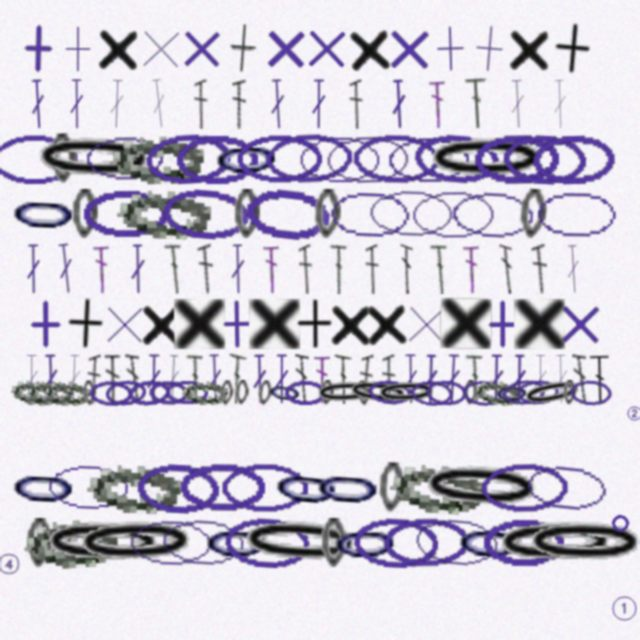chain: (418, 459, 545, 516), (237, 514, 364, 571), (31, 132, 157, 186), (73, 516, 199, 569), (40, 517, 166, 569), (493, 517, 618, 569), (424, 134, 549, 184), (523, 517, 640, 569), (389, 460, 485, 516), (23, 515, 119, 571), (242, 184, 332, 243), (521, 459, 610, 517), (160, 185, 250, 242), (412, 514, 502, 571), (117, 187, 211, 240), (412, 131, 500, 187), (144, 131, 233, 186), (223, 515, 312, 570), (110, 133, 204, 185), (87, 462, 181, 514), (159, 515, 246, 570), (448, 187, 536, 241), (264, 132, 353, 185), (135, 461, 222, 515), (501, 132, 587, 186), (367, 187, 454, 240), (45, 461, 132, 514), (352, 516, 439, 569), (352, 133, 440, 185), (480, 462, 568, 514), (326, 187, 412, 240), (324, 133, 410, 185), (531, 133, 617, 185), (127, 517, 213, 569), (473, 133, 559, 184), (179, 462, 265, 513), (383, 517, 469, 568), (221, 463, 308, 513), (533, 188, 618, 239), (236, 134, 322, 184), (385, 134, 471, 184), (82, 189, 168, 239), (83, 133, 167, 184), (175, 134, 260, 184), (410, 189, 495, 239), (297, 134, 381, 184), (482, 518, 566, 568), (270, 460, 344, 516), (0, 134, 79, 184), (312, 461, 385, 515), (211, 132, 283, 185), (8, 187, 80, 240), (8, 461, 80, 514), (454, 516, 526, 569), (330, 517, 401, 569), (202, 517, 272, 568), (520, 375, 585, 411), (346, 377, 410, 408), (314, 379, 377, 406), (375, 379, 438, 406), (518, 188, 548, 240), (49, 133, 77, 184), (378, 462, 406, 513), (10, 378, 58, 407), (473, 378, 521, 407), (314, 189, 341, 239), (26, 518, 53, 568), (367, 378, 412, 407), (502, 378, 547, 407), (72, 189, 98, 239), (234, 189, 260, 239), (321, 518, 347, 568), (104, 378, 148, 407), (127, 378, 171, 407), (461, 379, 506, 407), (410, 379, 453, 407), (44, 380, 90, 406), (425, 379, 468, 406), (516, 379, 559, 406), (569, 379, 612, 406), (27, 380, 73, 405), (182, 380, 228, 405), (89, 380, 132, 406), (266, 378, 304, 407), (148, 380, 190, 406), (165, 380, 208, 405), (284, 380, 326, 405), (494, 380, 530, 406), (257, 380, 273, 406), (82, 380, 97, 406), (219, 380, 234, 406), (356, 380, 371, 406), (235, 380, 249, 405), (320, 380, 334, 405), (464, 380, 477, 405), (563, 380, 576, 405)
double: (465, 78, 489, 129), (148, 78, 170, 129), (55, 243, 77, 294), (589, 354, 611, 404), (163, 243, 184, 294), (226, 353, 247, 404), (429, 244, 449, 294), (268, 79, 287, 129), (508, 79, 527, 129), (328, 244, 347, 294), (443, 354, 462, 404), (197, 243, 215, 294), (531, 243, 549, 294), (29, 79, 47, 129), (108, 79, 126, 129), (390, 79, 408, 129), (551, 79, 569, 129), (129, 244, 147, 294), (229, 244, 247, 294), (564, 244, 582, 294), (42, 354, 60, 404), (65, 354, 83, 404), (104, 354, 122, 404), (164, 354, 182, 404), (185, 354, 203, 404), (206, 354, 224, 404), (334, 354, 352, 404), (465, 354, 483, 404), (487, 354, 505, 404), (552, 354, 570, 404), (68, 79, 85, 129), (310, 79, 327, 129), (429, 79, 446, 129), (25, 244, 42, 294), (93, 244, 110, 294), (263, 244, 280, 294), (463, 244, 480, 294), (23, 354, 40, 404), (125, 354, 142, 404), (145, 354, 162, 404), (251, 354, 268, 404), (273, 354, 290, 404), (402, 354, 419, 404), (422, 354, 439, 404), (532, 354, 549, 404), (572, 354, 589, 404), (298, 244, 314, 294), (499, 244, 515, 294), (314, 354, 330, 404), (358, 354, 374, 404), (511, 354, 527, 404), (349, 79, 364, 129), (365, 244, 380, 294), (194, 79, 208, 129), (232, 79, 246, 129), (87, 354, 101, 404), (295, 354, 309, 404), (382, 354, 396, 404), (400, 244, 413, 294)
noise: (610, 594, 638, 622), (0, 551, 22, 577), (610, 513, 631, 534), (625, 404, 640, 422)
single: (463, 22, 516, 75), (400, 298, 452, 350), (440, 298, 492, 349), (13, 23, 64, 74), (135, 23, 186, 74), (176, 23, 227, 74), (260, 23, 311, 74), (301, 23, 352, 74), (425, 23, 476, 74), (174, 299, 225, 349), (249, 299, 300, 349), (514, 299, 565, 349), (53, 24, 103, 74), (384, 24, 434, 74), (20, 299, 70, 349), (99, 299, 149, 349), (212, 299, 262, 349), (477, 299, 527, 349), (555, 299, 605, 349), (346, 23, 394, 75), (363, 298, 411, 349), (95, 23, 142, 74), (506, 24, 553, 74), (139, 299, 185, 349), (328, 299, 374, 349), (551, 22, 593, 75), (65, 298, 105, 349), (295, 299, 333, 349), (229, 23, 258, 74)
